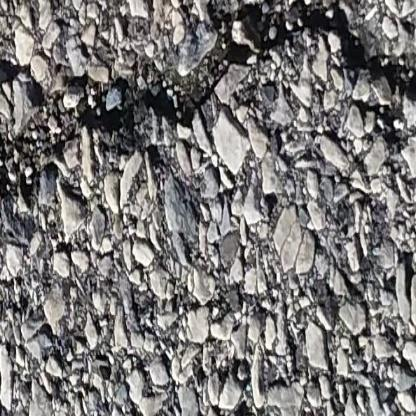Cracks: (0, 0, 416, 202)
